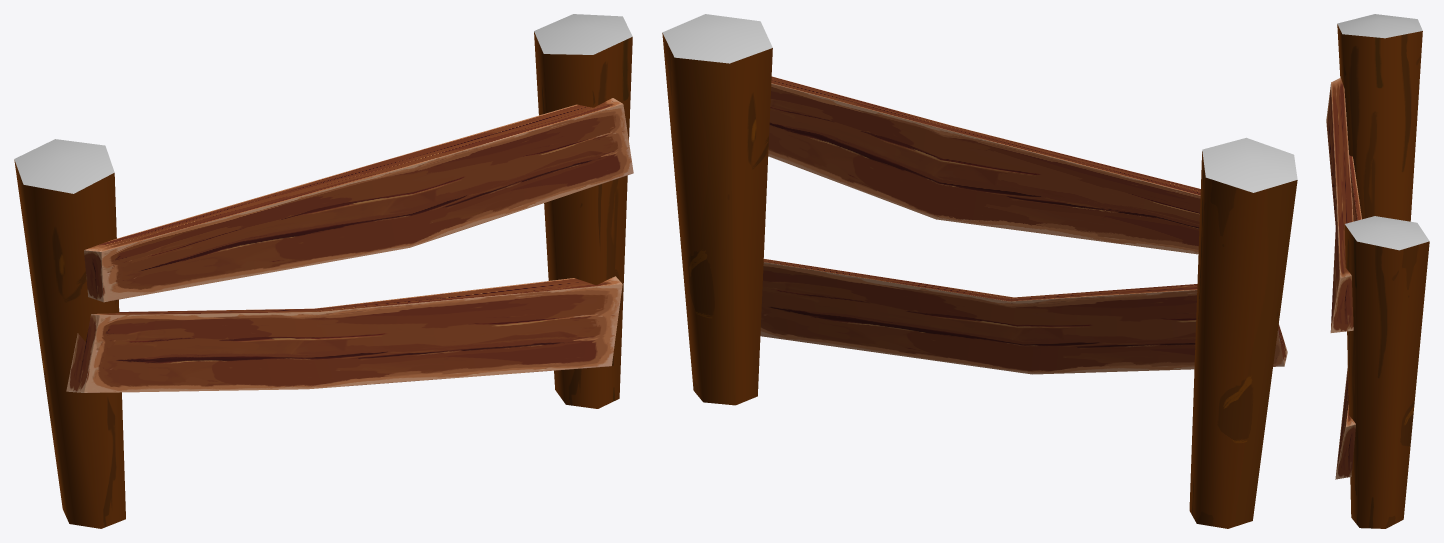
Rendered from SM_PROP_fence_v03_02.fbx.
3 renders of one model, left to right at view 1: azimuth 30°, elevation 25°; view 2: azimuth 150°, elevation 25°; view 3: azimuth 270°, elevation 25°, orthographic. The views are drawn at different scales.
Parts seen in each view (by area): view 1: SM_PROP_fence_v03_02; view 2: SM_PROP_fence_v03_02; view 3: SM_PROP_fence_v03_02.
Part boxes in pixels (x1,y1,x2,y2): SM_PROP_fence_v03_02: (14,14,633,528); SM_PROP_fence_v03_02: (662,14,1297,528); SM_PROP_fence_v03_02: (1326,14,1429,528).
Bounding box in the file's own units: 206 × 117 × 37.18.
